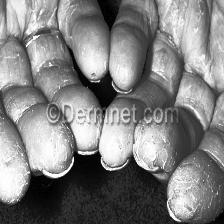Non-Cancerous Skin Condition: (108, 133, 224, 219), (0, 132, 87, 194), (163, 8, 224, 95), (25, 0, 71, 48)
